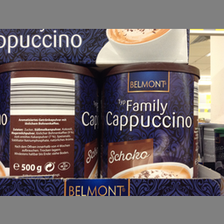coffee: (101, 63, 200, 178), (1, 61, 99, 177)
